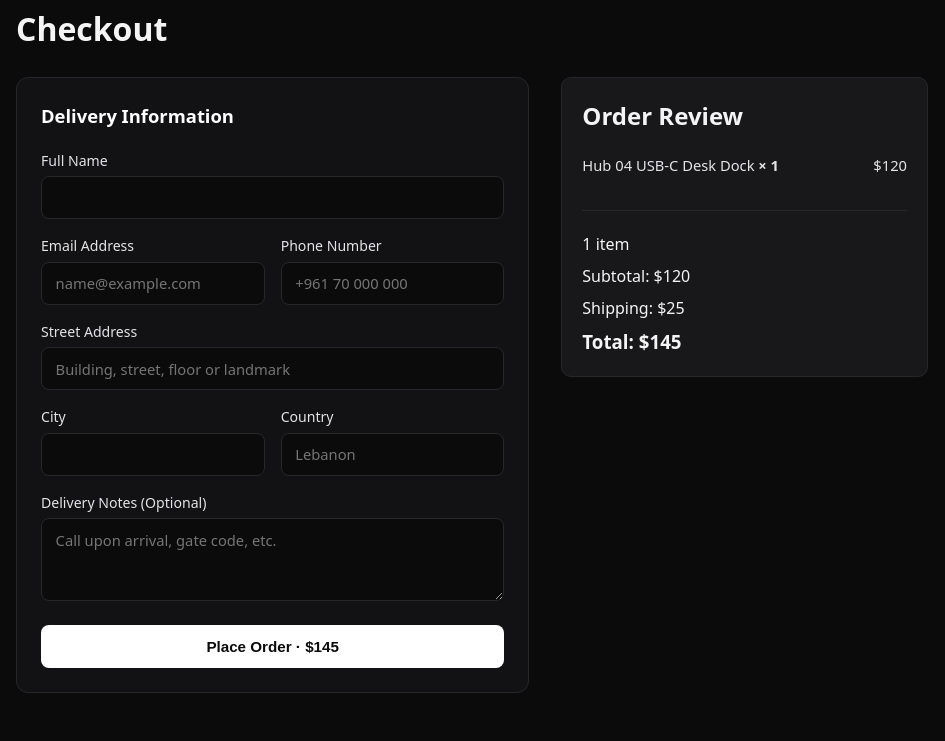
Test: Mono Desk Storefront Tests › displays field validation errors and blocks order placement when form is invalid
This screenshot has width=945, height=741.
Click the button "Place Order · $145" at (273, 646), box left=41, top=625, right=504, bottom=668
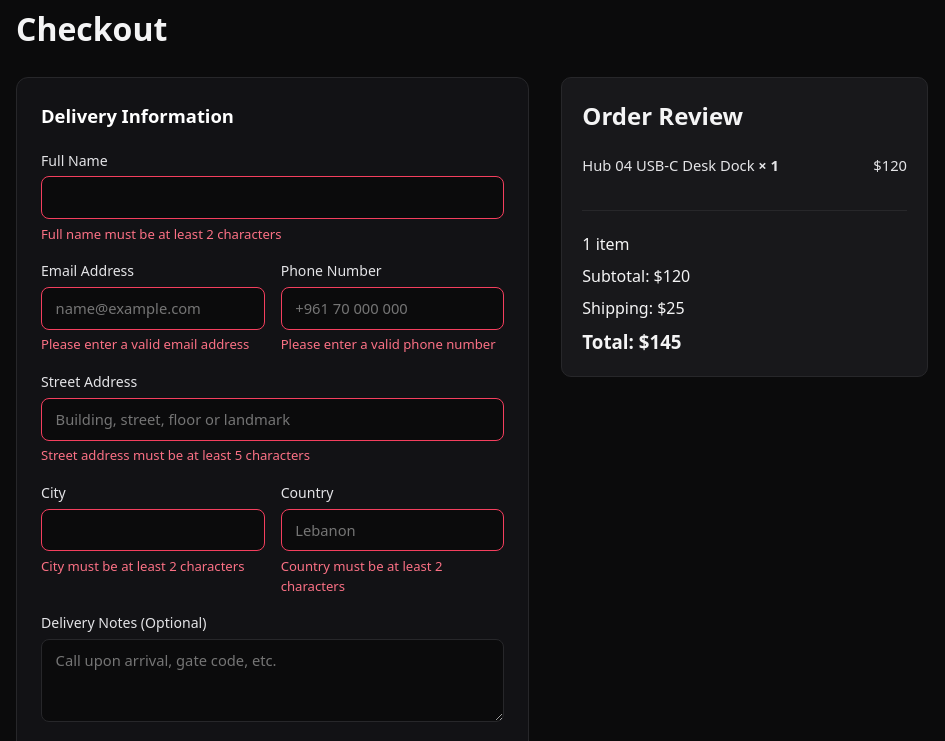
Now the text "Full name must be at least 2 characters" is shown, box left=41, top=225, right=282, bottom=243
Now the text "Please enter a valid email address" is shown, box left=41, top=336, right=265, bottom=355
